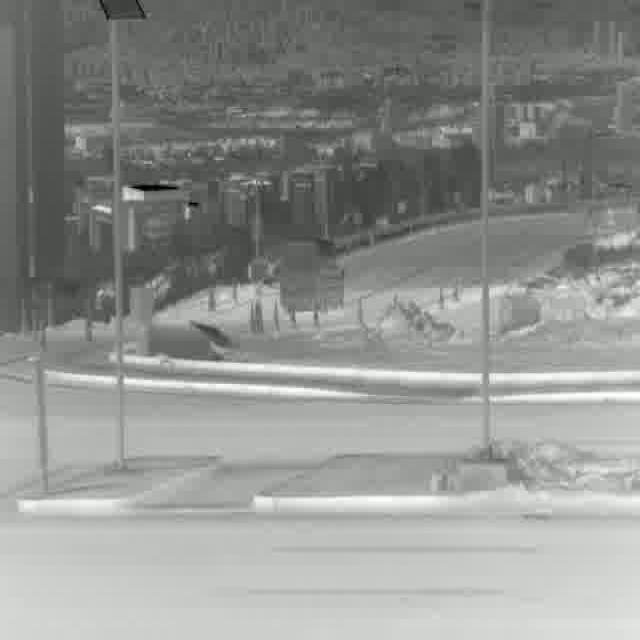Car: (281, 237, 346, 315)
